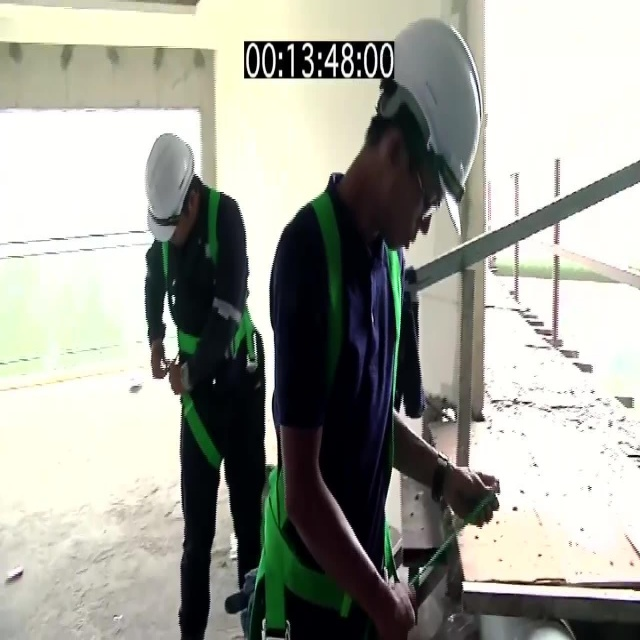Arnes_seguridad: (266, 184, 403, 624), (159, 187, 251, 467)
